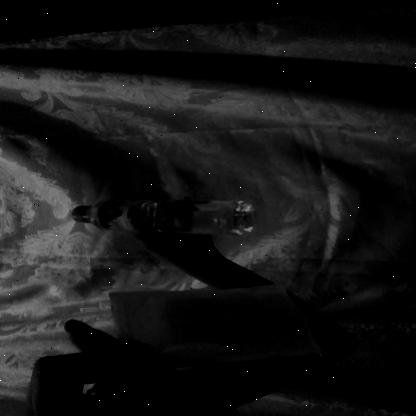Plastic Bottle: (52, 177, 281, 245)
